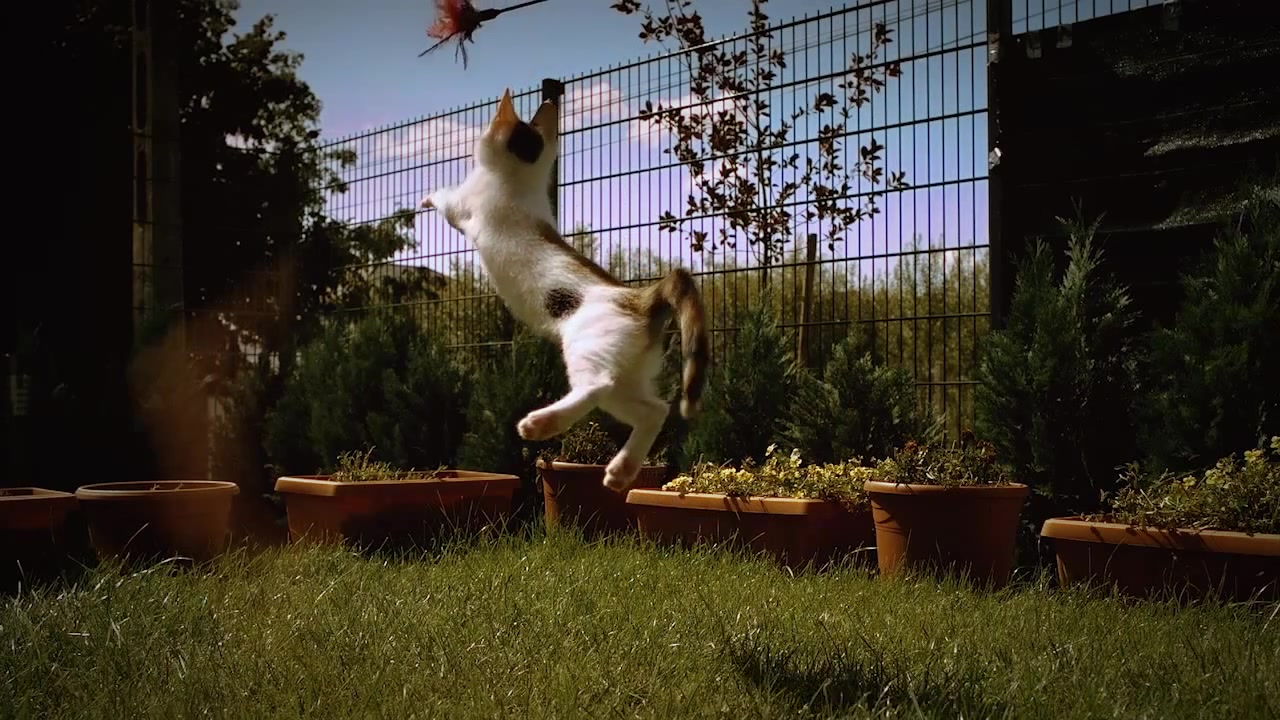cat: (413, 90, 706, 495)
